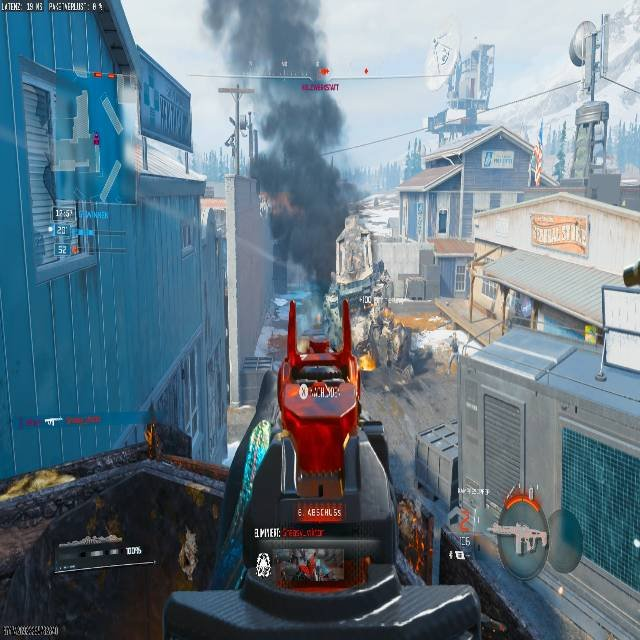player: (447, 332, 465, 374)
